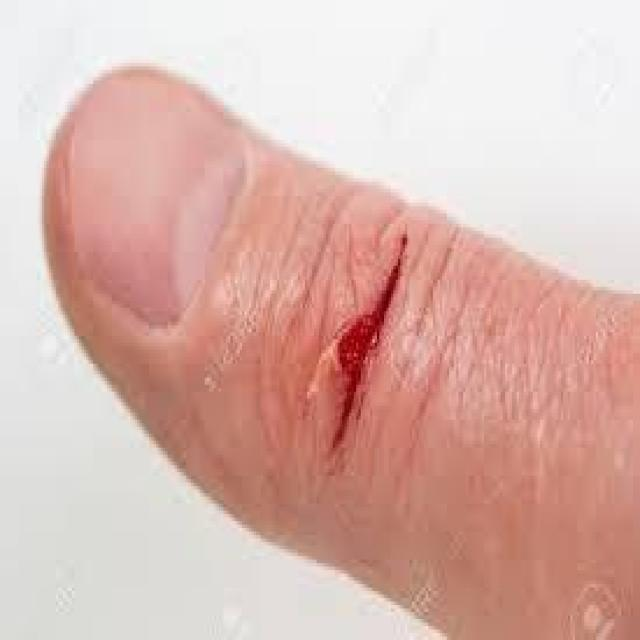flood: (319, 218, 417, 458)
